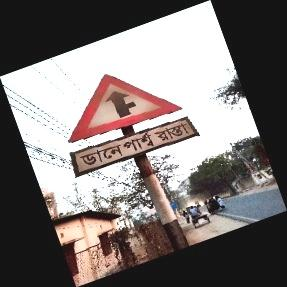Side-road-right: (67, 73, 195, 178)
